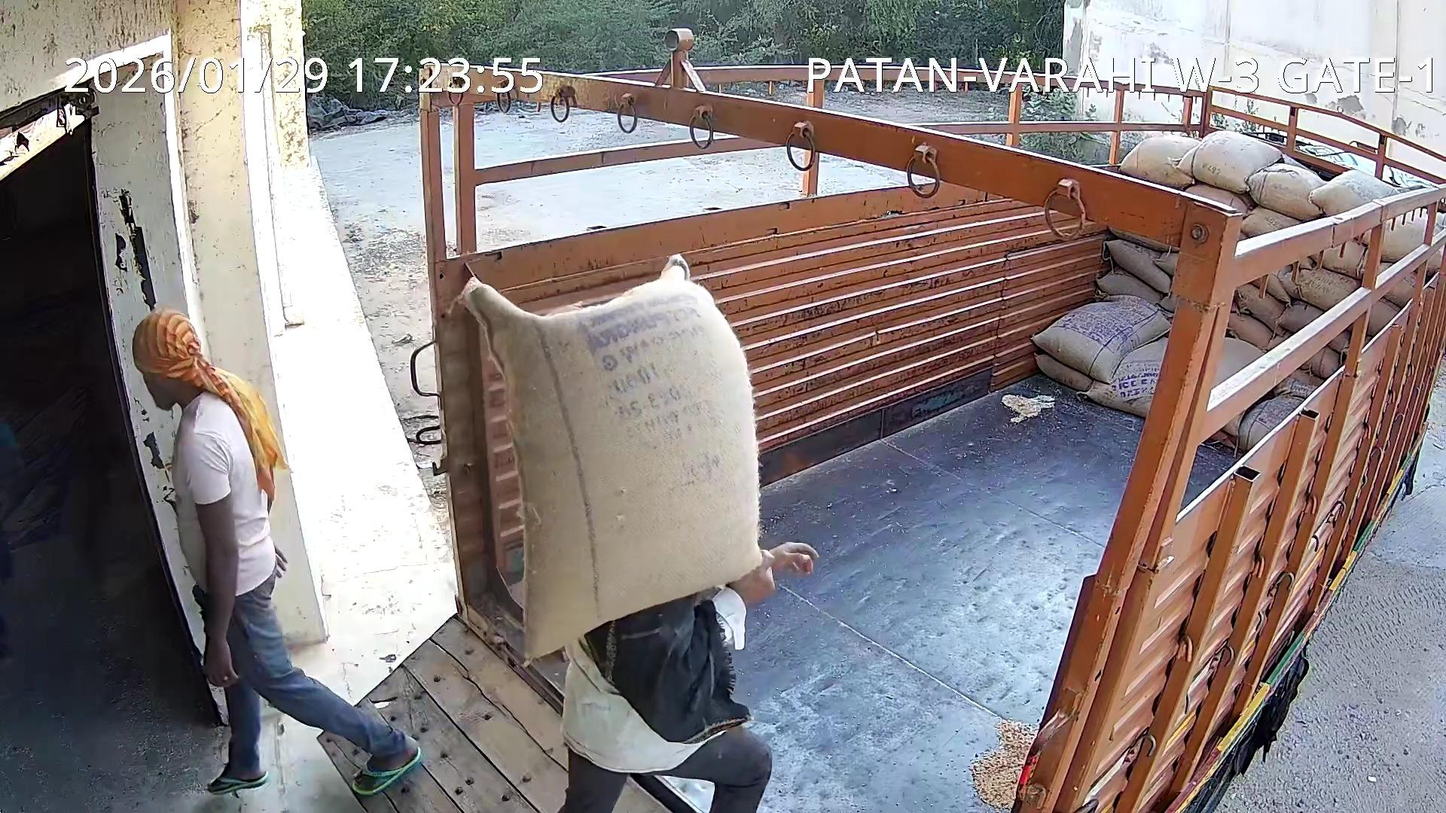Sack: (462, 256, 758, 656)
